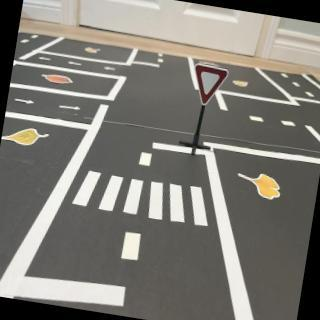road_crosswalk: (68, 165, 220, 232)
road_oneway: (57, 101, 85, 117), (12, 96, 38, 110), (39, 55, 55, 66), (66, 60, 85, 68), (103, 66, 118, 74)
sign_yield: (191, 64, 231, 109)
